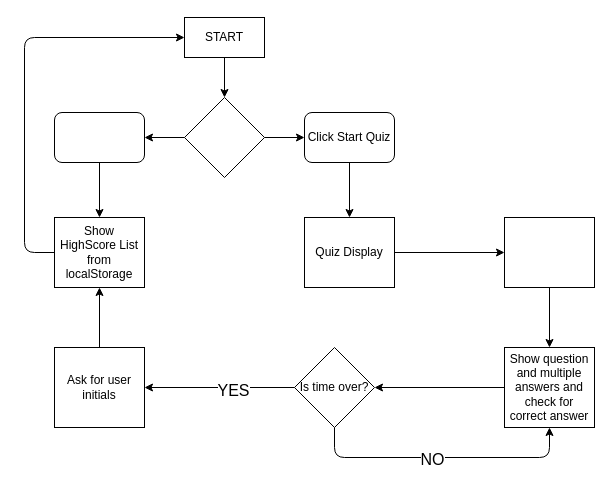
Image size: 612x486. Some labels were removed from this diagram. The shapes that lost their labels are listed below. From the top down, each one's centre as x and y in pixels, then its label:
At (99,137): "Click HighScore".
At (224,137): "User Event".
At (549,252): "Start count down".
